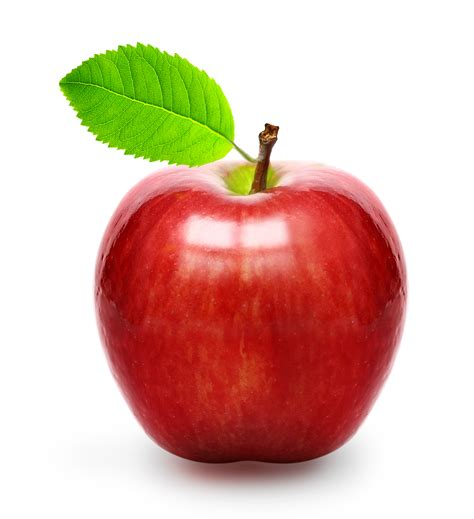apple: (84, 118, 413, 475)
